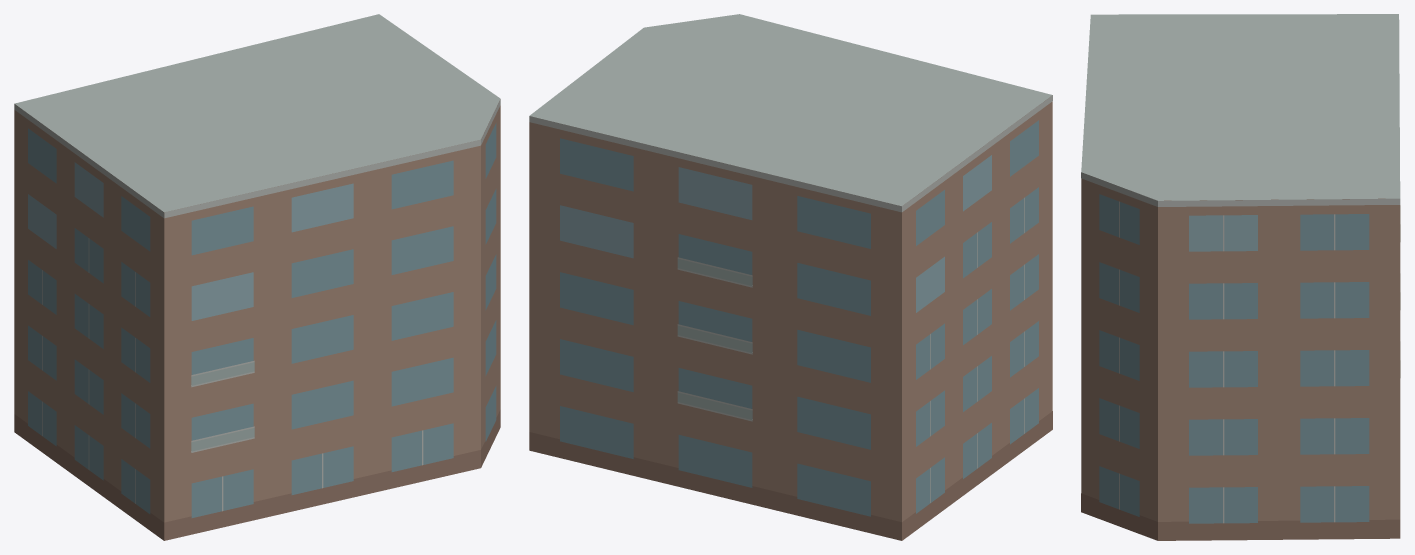
File: survey-upis-32840925.glb
The picture shows the model from 3 angles, left to right: view 1: azimuth 30°, elevation 25°; view 2: azimuth 150°, elevation 25°; view 3: azimuth 270°, elevation 25°; orthographic projection. The views are drawn at different scales.
Visible parts, largest first — view 1: survey-upis-32840925.tmp; view 2: survey-upis-32840925.tmp; view 3: survey-upis-32840925.tmp.
Boxes of the visible parts, <box> form: survey-upis-32840925.tmp: <box>14,14,500,540</box>; survey-upis-32840925.tmp: <box>529,14,1052,540</box>; survey-upis-32840925.tmp: <box>1081,14,1400,540</box>.
Bounding box in the file's own units: 15.68 × 13.3 × 11.34.
